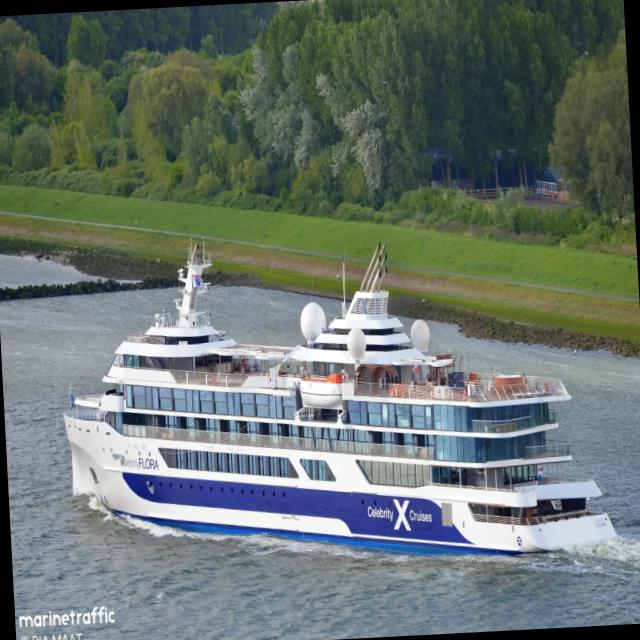Cruise: (64, 243, 616, 554)
